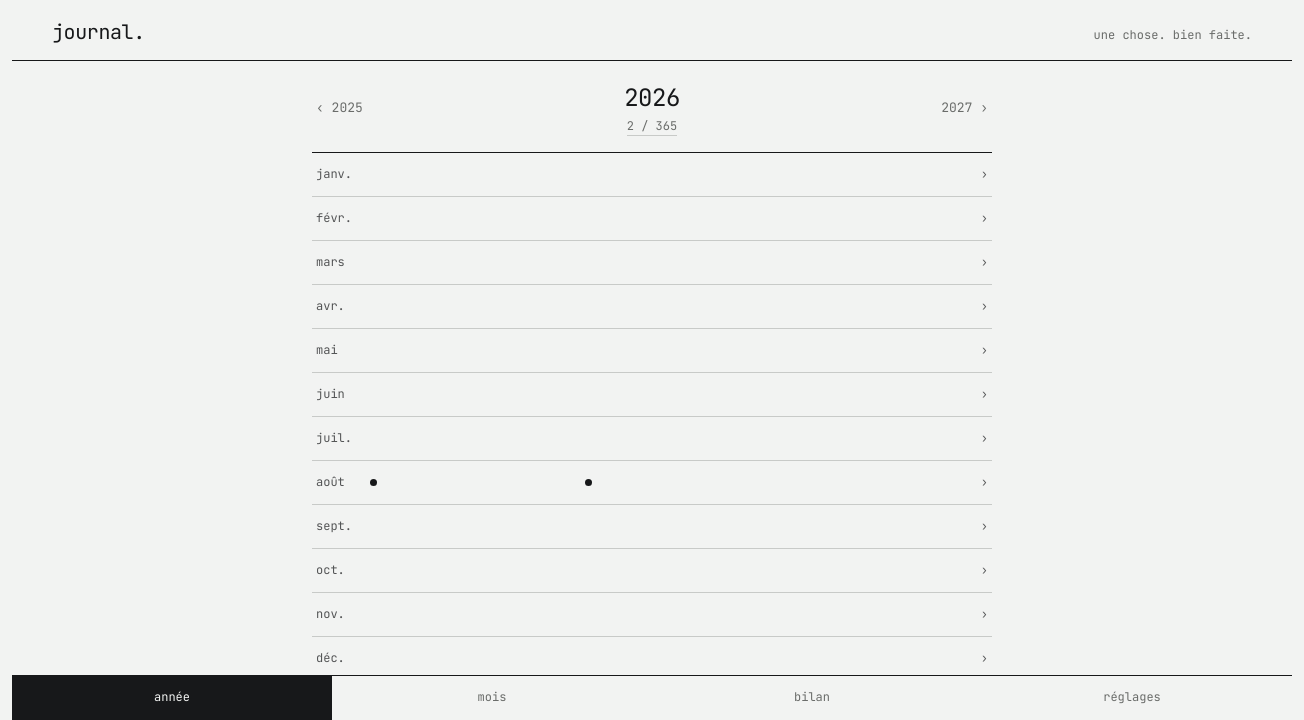
it: JournalApp › replie les jours écoulés sans rien en une seule ligne
Click the button with aria-label "août 2026": (330, 482) [312,461,992,505]
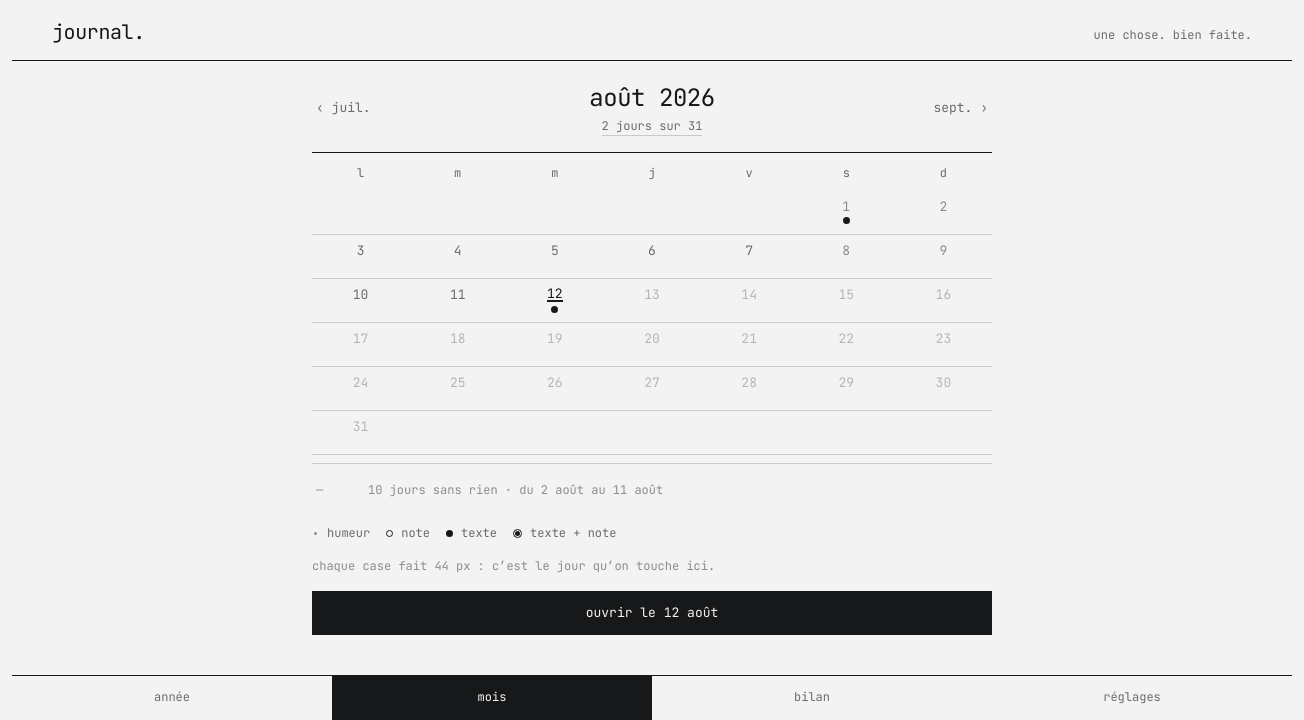
Expected: the text "10 jours sans rien · du 2 août au 11 août" is shown, [368,482,663,498]
